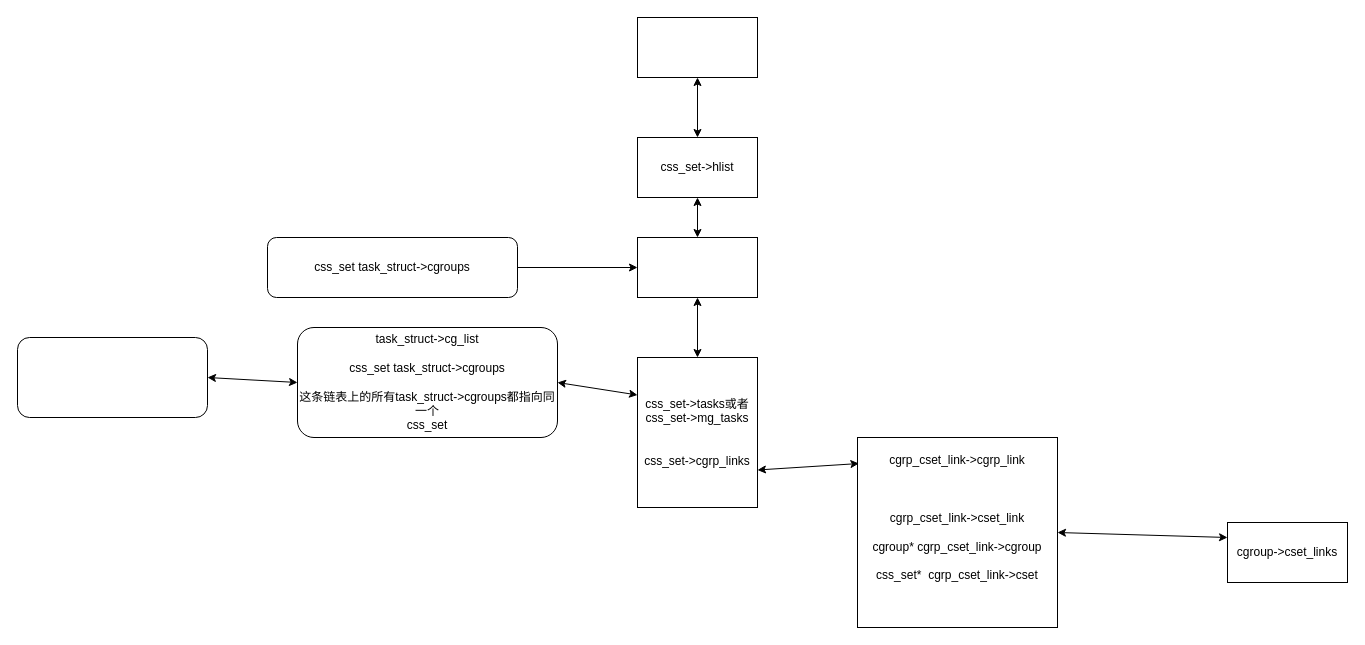
The diagram is 1365 pixels wide and 645 high, and some of its shapes have lost their labels. Each missing label, with the centre of its shape:
"css_set" belongs at [697,267].
"task_struct->cg_list css_set task_struct->cgroups" belongs at [112,377].
"全局变量 css_set_table" belongs at [697,47].
